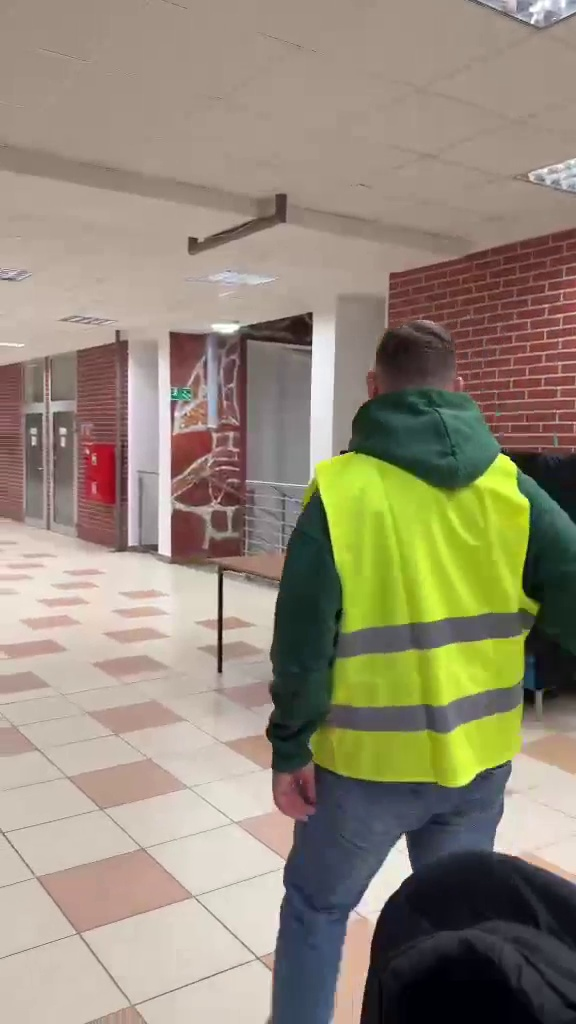vest: (263, 308, 570, 1018)
